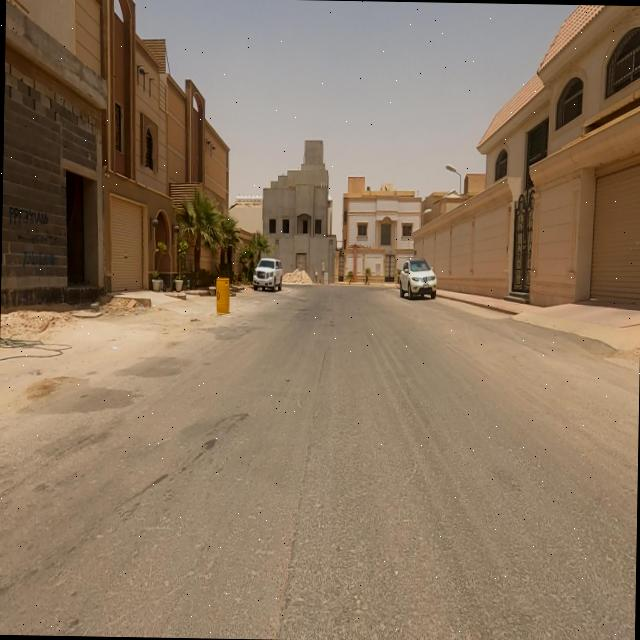Graffiti: (8, 205, 60, 267)
